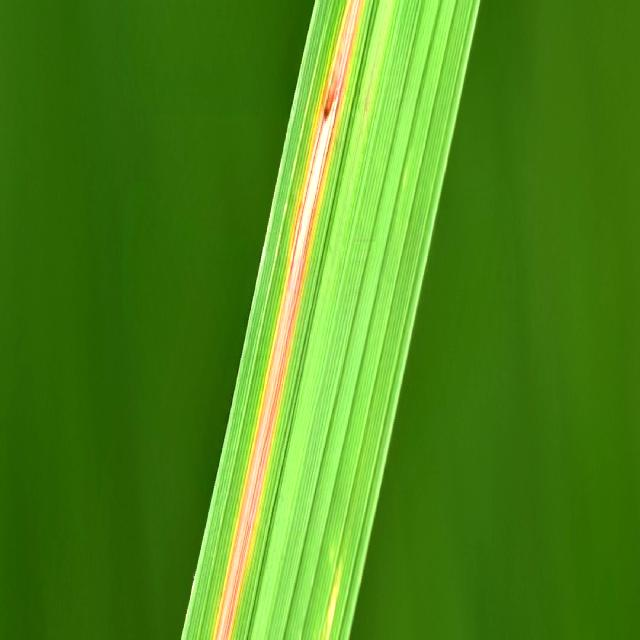BLB: (213, 0, 364, 640)
